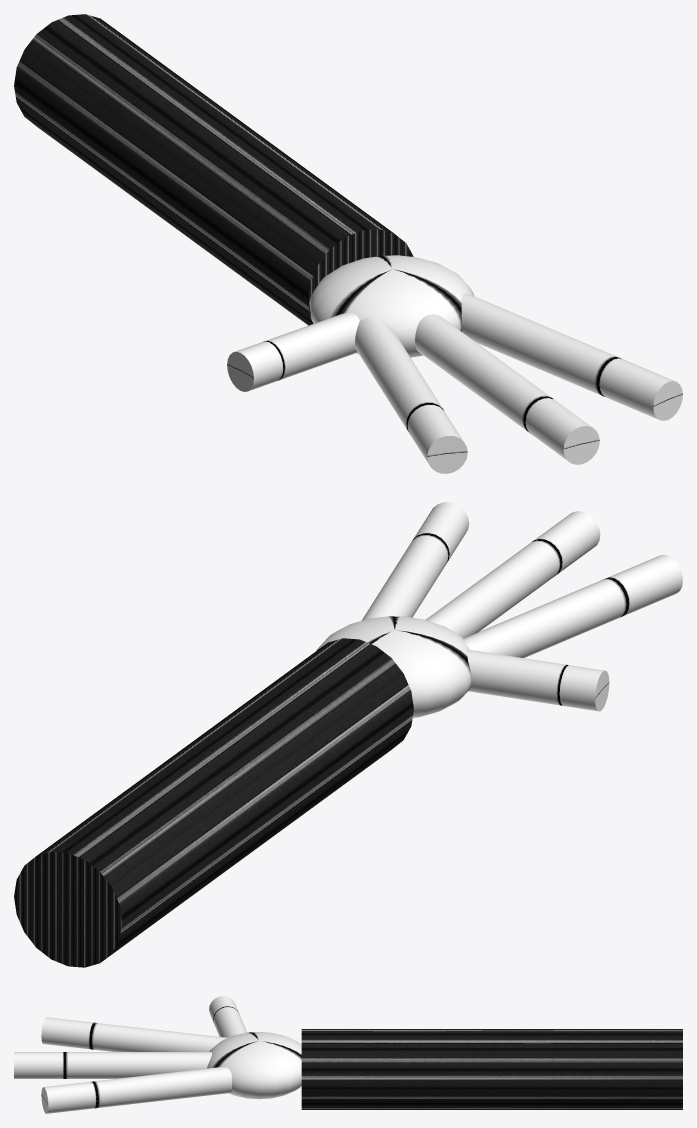
File: mano.obj
3 views of the same model, one above another, from view 1: azimuth 30°, elevation 25°; view 2: azimuth 150°, elevation 25°; view 3: azimuth 270°, elevation 25° (orthographic). The views are drawn at different scales.
Visible parts, largest first — view 1: polySurface48 polySurface42, pCylinder1, pSphere1, pCylinder3, pCylinder2, pCylinder4; view 2: polySurface48 polySurface42, pCylinder2, pCylinder3, pSphere1, pCylinder4, pCylinder1; view 3: polySurface48 polySurface42, pCylinder1, pSphere1, pCylinder3, pCylinder2, pCylinder4.
Boxes of the visible parts, bbox=[...] form: polySurface48 polySurface42: bbox=[14, 14, 413, 325]; pCylinder1: bbox=[461, 293, 682, 420]; pSphere1: bbox=[309, 255, 474, 357]; pCylinder3: bbox=[415, 314, 599, 464]; pCylinder2: bbox=[355, 317, 467, 473]; pCylinder4: bbox=[227, 313, 359, 391]; polySurface48 polySurface42: bbox=[14, 638, 413, 967]; pCylinder2: bbox=[463, 554, 682, 657]; pCylinder3: bbox=[425, 511, 600, 638]; pSphere1: bbox=[316, 616, 471, 717]; pCylinder4: bbox=[465, 649, 609, 711]; pCylinder1: bbox=[361, 502, 469, 620]; polySurface48 polySurface42: bbox=[301, 1029, 682, 1109]; pCylinder1: bbox=[41, 1066, 231, 1113]; pSphere1: bbox=[207, 1032, 301, 1099]; pCylinder3: bbox=[14, 1052, 211, 1078]; pCylinder2: bbox=[41, 1017, 227, 1051]; pCylinder4: bbox=[209, 996, 246, 1037].
Bounding box in the file's own units: 85.75 × 30 × 246.
2 materials, 2 textured.
